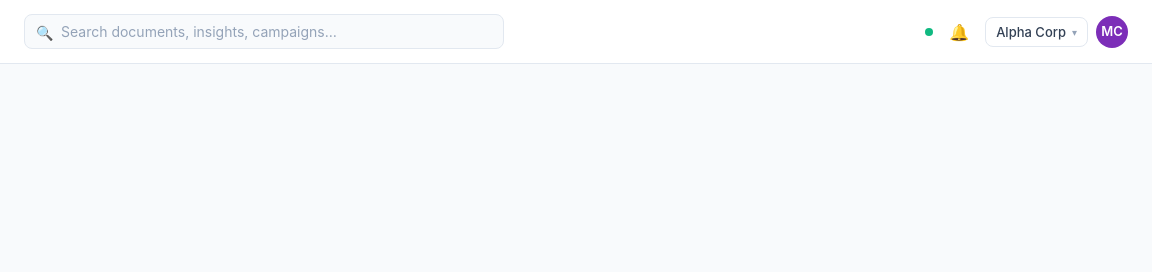
Test: Header — search results dropdown › results are grouped by module (Documents/Insights/Content)
The width and height of the screenshot is (1152, 272).
// 'Q2' should match Documents results
Type "Q2" into the search field.
click(264, 32); type("Q2")  # box top-left (24, 14), bottom-right (504, 49)
Wait 500 ms
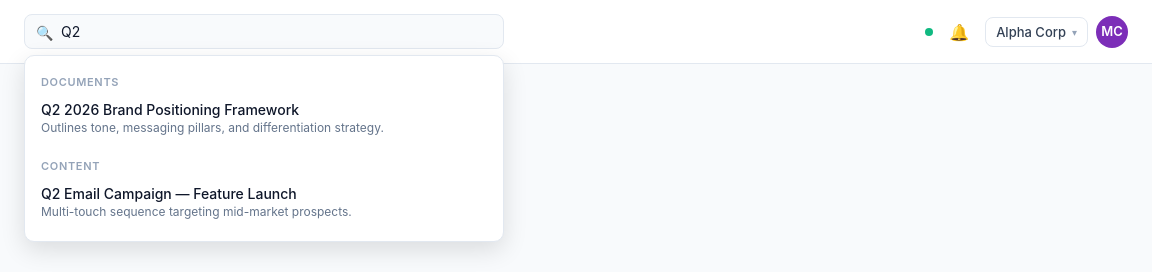
Now the list with test id "search-dropdown" shows "Documents", box top-left (41, 75), bottom-right (119, 89)
